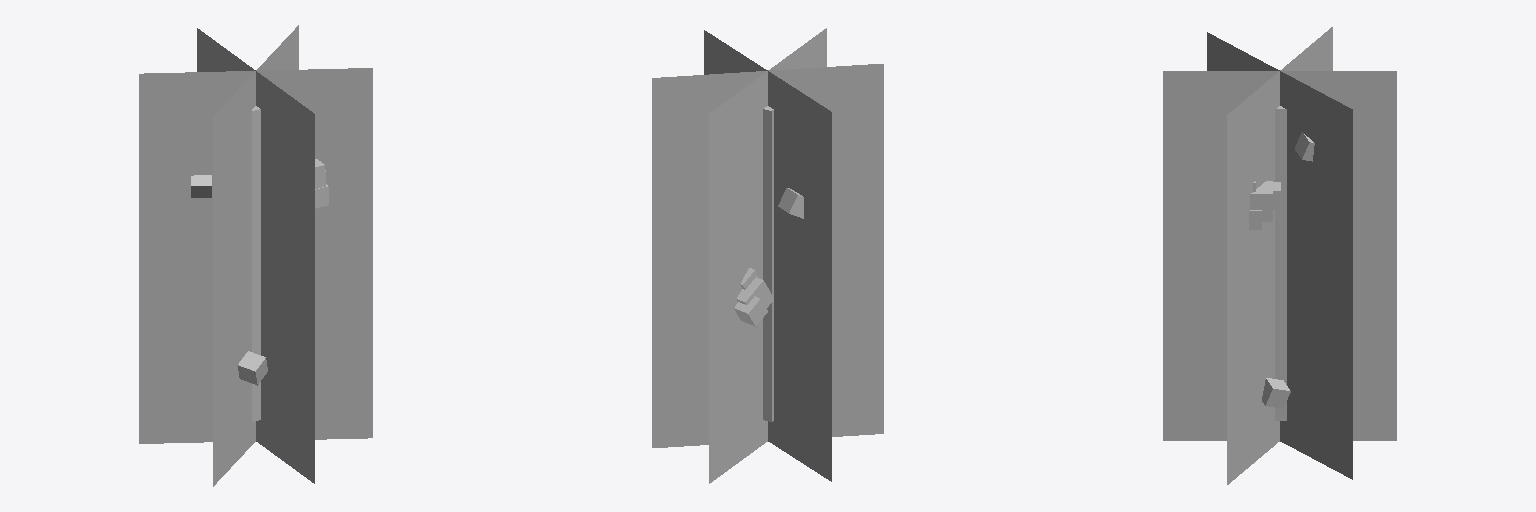
Rendered from tomato.obj.
3 renders of one model, left to right at view 1: azimuth 30°, elevation 25°; view 2: azimuth 150°, elevation 25°; view 3: azimuth 270°, elevation 25°, orthographic.
Visible parts, largest first — view 1: Cube; view 2: Cube; view 3: Cube.
Part boxes in pixels (x1,y1,x2,y2): Cube: (139,25,372,486); Cube: (652,28,883,483); Cube: (1163,27,1396,484).
Size of the model in its own units: 1.53 by 2.99 by 1.71.